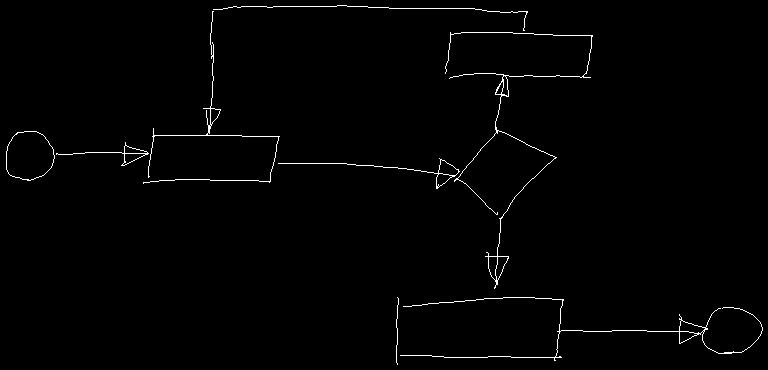arrow: (203, 5, 527, 135), (278, 158, 459, 188), (557, 314, 707, 343), (56, 142, 148, 165), (485, 217, 508, 288), (495, 75, 508, 133)
connection: (702, 307, 762, 353), (6, 131, 54, 180)
decision: (454, 130, 556, 220)
process: (396, 297, 563, 364), (143, 128, 279, 183), (445, 32, 592, 78)
